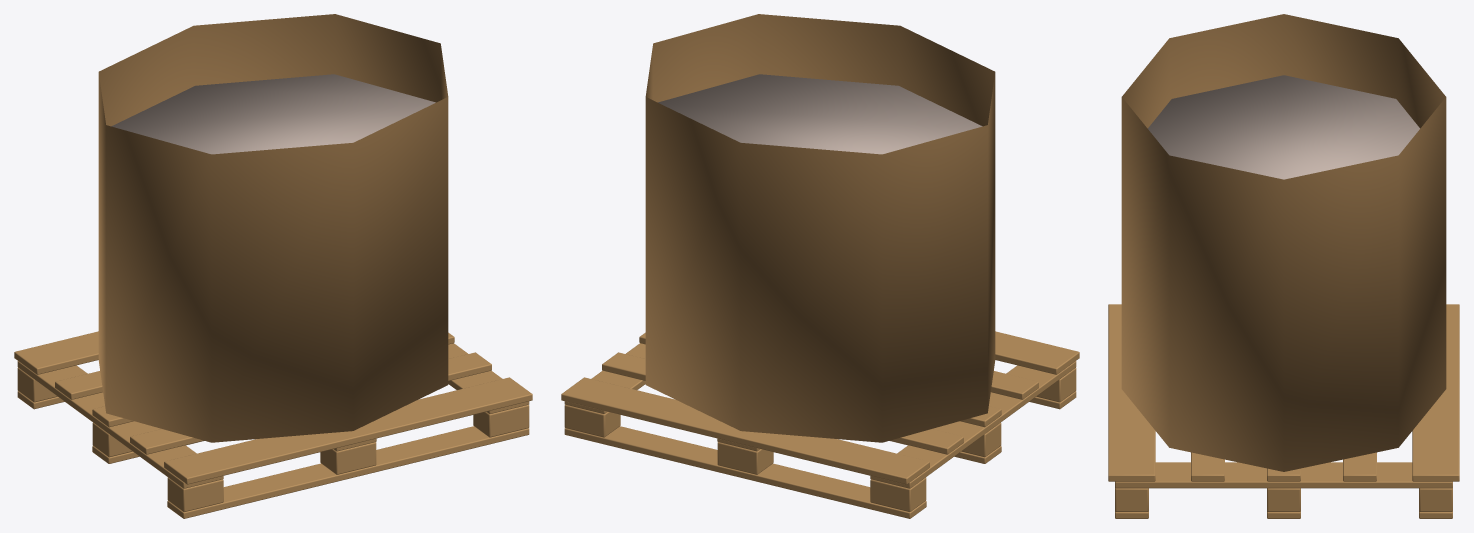
File: gaylord_pellets.fbx
3 renders of one model, left to right at view 1: azimuth 30°, elevation 25°; view 2: azimuth 150°, elevation 25°; view 3: azimuth 270°, elevation 25°, orthographic.
Parts seen in each view (by area): view 1: gaylord_pellets; view 2: gaylord_pellets; view 3: gaylord_pellets.
Part boxes in pixels (bbox=[...]): gaylord_pellets: bbox=[14, 14, 532, 518]; gaylord_pellets: bbox=[561, 14, 1079, 518]; gaylord_pellets: bbox=[1108, 14, 1459, 518].
Size of the model in its own units: 1.2 by 1.1 by 1.04.
